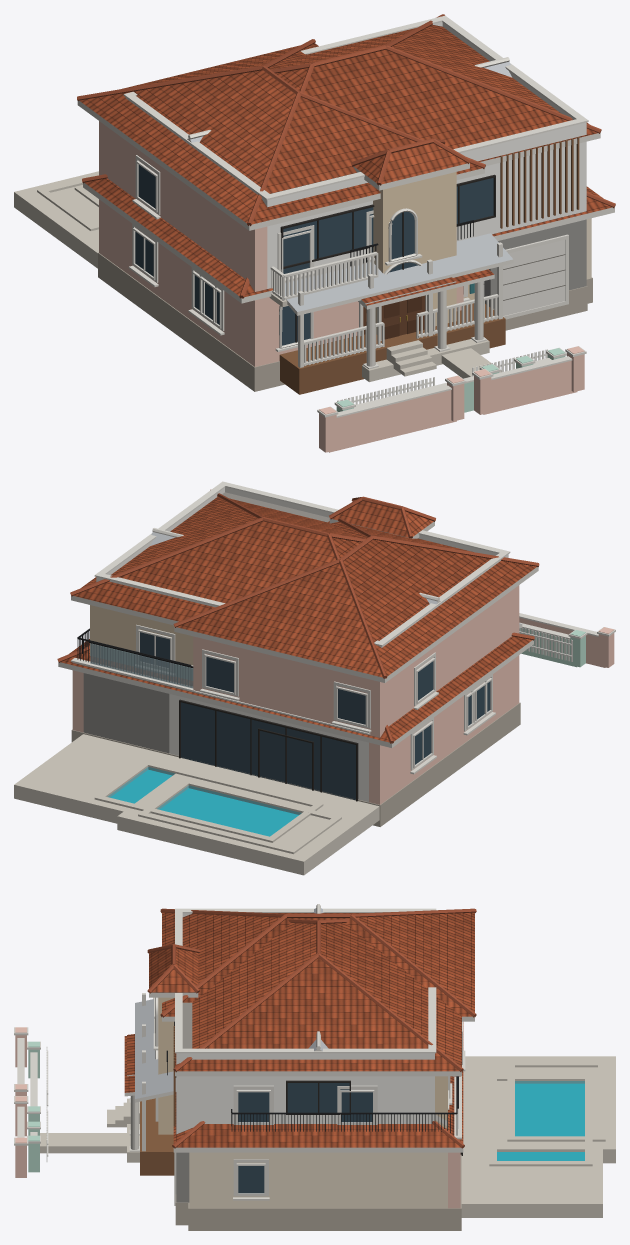
The model's file is houses.glb.
The picture shows the model from 3 angles, top to bottom: view 1: azimuth 30°, elevation 25°; view 2: azimuth 150°, elevation 25°; view 3: azimuth 270°, elevation 25°; orthographic projection. The views are drawn at different scales.
Parts seen in each view (by area): view 1: house_spanish_mesh, house_mediterranean_mesh, house_modern_mesh, house_spanish_lod1_mesh, house_ranch_mesh, house_modern_lod1_mesh, house_keywest_lod1_mesh, house_keywest_mesh, house_deco_mesh, house_deco_lod1_mesh; view 2: house_spanish_mesh, house_mediterranean_mesh, house_modern_lod1_mesh, house_modern_mesh, house_spanish_lod1_mesh, house_ranch_mesh, house_deco_lod1_mesh, house_keywest_mesh, house_deco_mesh; view 3: house_mediterranean_mesh, house_ranch_mesh, house_modern_mesh, house_spanish_mesh, house_spanish_lod1_mesh, house_keywest_lod1_mesh, house_modern_lod1_mesh, house_keywest_mesh, house_deco_lod1_mesh, house_deco_mesh.
Part boxes in pixels (<box>): house_spanish_mesh: <box>14,39,586,452</box>; house_mediterranean_mesh: <box>269,14,601,340</box>; house_modern_mesh: <box>51,15,588,330</box>; house_spanish_lod1_mesh: <box>14,42,485,414</box>; house_ranch_mesh: <box>82,174,615,381</box>; house_modern_lod1_mesh: <box>267,22,587,309</box>; house_keywest_lod1_mesh: <box>189,57,545,401</box>; house_keywest_mesh: <box>187,59,547,404</box>; house_deco_mesh: <box>334,281,566,411</box>; house_deco_lod1_mesh: <box>442,348,501,412</box>; house_spanish_mesh: <box>71,518,615,875</box>; house_mediterranean_mesh: <box>70,489,435,676</box>; house_modern_lod1_mesh: <box>14,492,381,842</box>; house_modern_mesh: <box>14,481,510,847</box>; house_spanish_lod1_mesh: <box>77,518,605,870</box>; house_ranch_mesh: <box>57,632,534,800</box>; house_deco_lod1_mesh: <box>103,628,577,680</box>; house_keywest_mesh: <box>150,530,572,661</box>; house_deco_mesh: <box>191,622,587,667</box>; house_mediterranean_mesh: <box>147,919,463,1134</box>; house_ranch_mesh: <box>124,1022,464,1230</box>; house_modern_mesh: <box>173,908,602,1217</box>; house_spanish_mesh: <box>14,909,605,1230</box>; house_spanish_lod1_mesh: <box>127,908,615,1163</box>; house_keywest_lod1_mesh: <box>47,904,320,1156</box>; house_modern_lod1_mesh: <box>175,1002,584,1225</box>; house_keywest_mesh: <box>46,906,447,1175</box>; house_deco_lod1_mesh: <box>40,1133,126,1153</box>; house_deco_mesh: <box>27,1041,449,1172</box>.
Bounding box in the file's own units: 15.44 × 9.26 × 23.27.
Materials: 29 (1 with a texture image).
